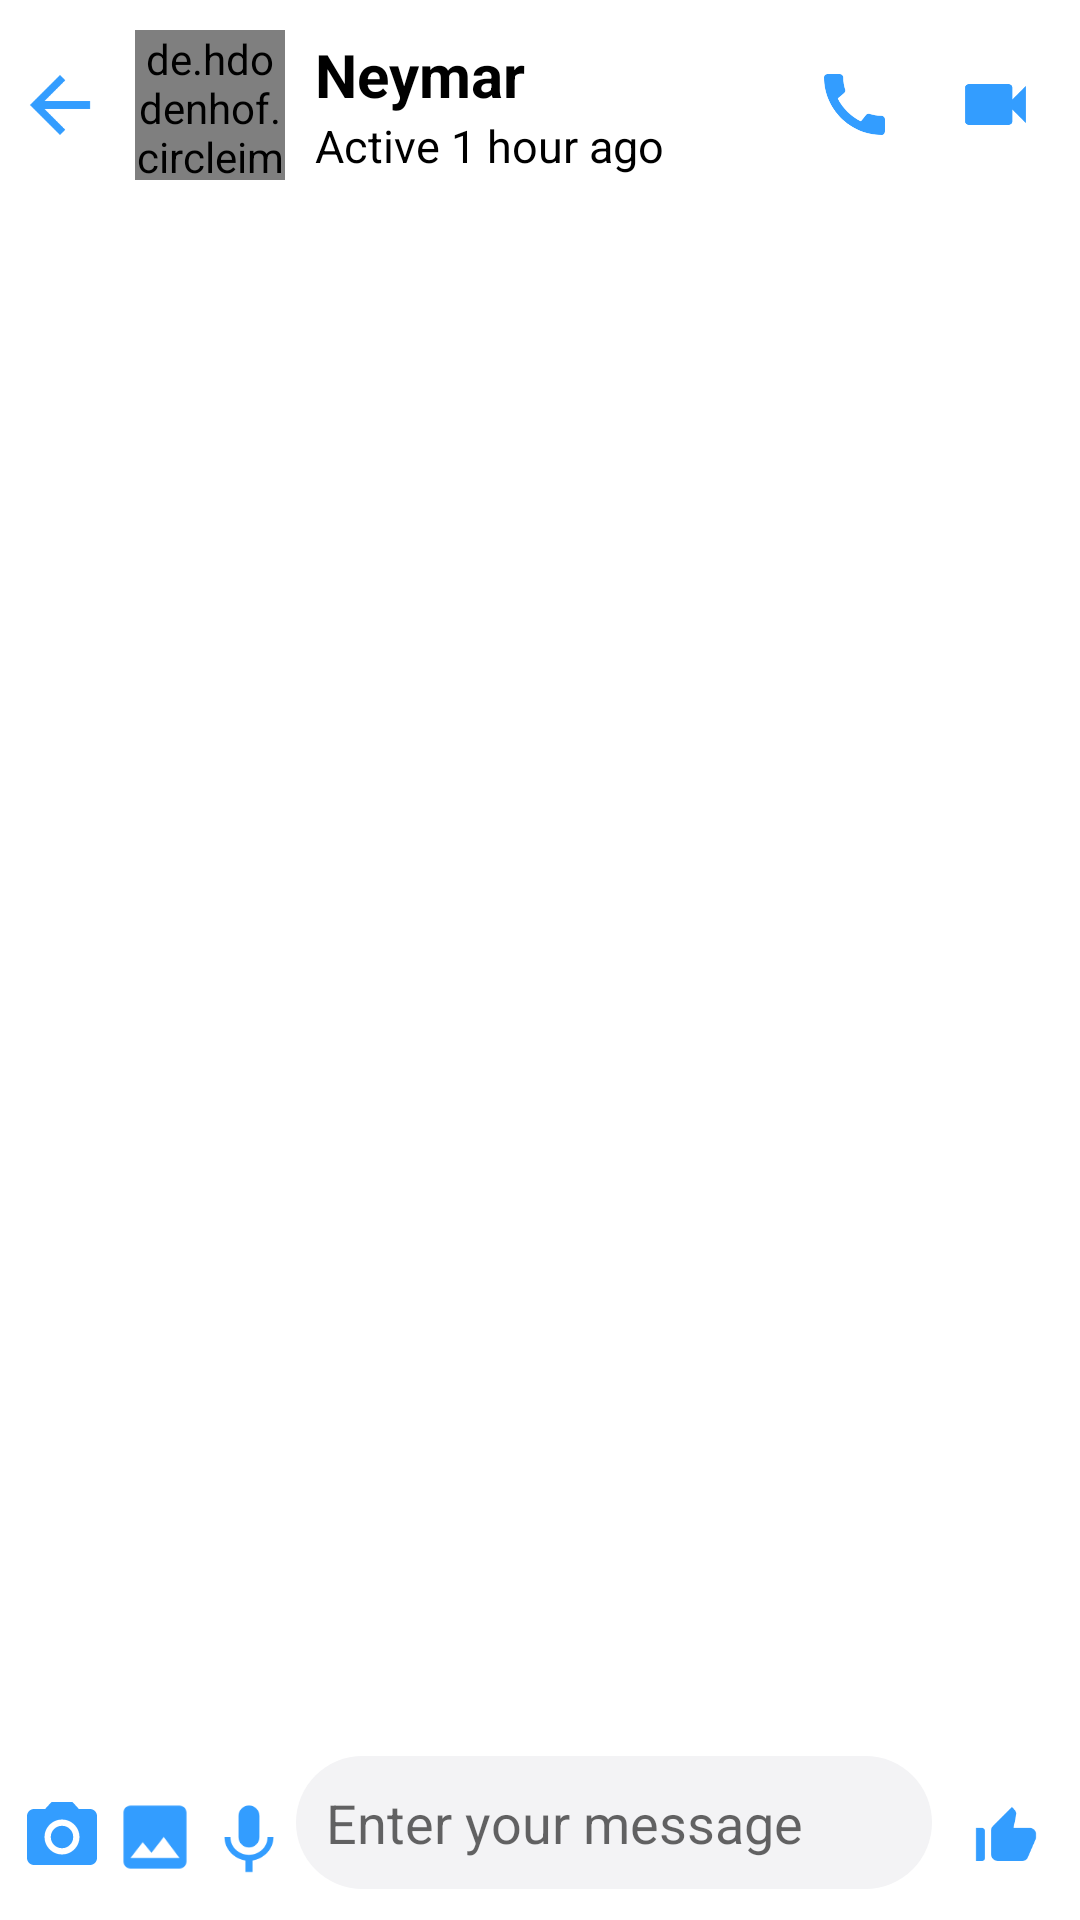

Icon bounding boxes for this 1080x1920 phone screenshot, format (x1, y1, x2, y2):
back: (30, 75, 91, 135)
call: (824, 74, 885, 135)
camera: (27, 1802, 97, 1865)
mic: (224, 1805, 274, 1873)
thumb: (976, 1807, 1036, 1861)
video call: (965, 84, 1026, 125)
